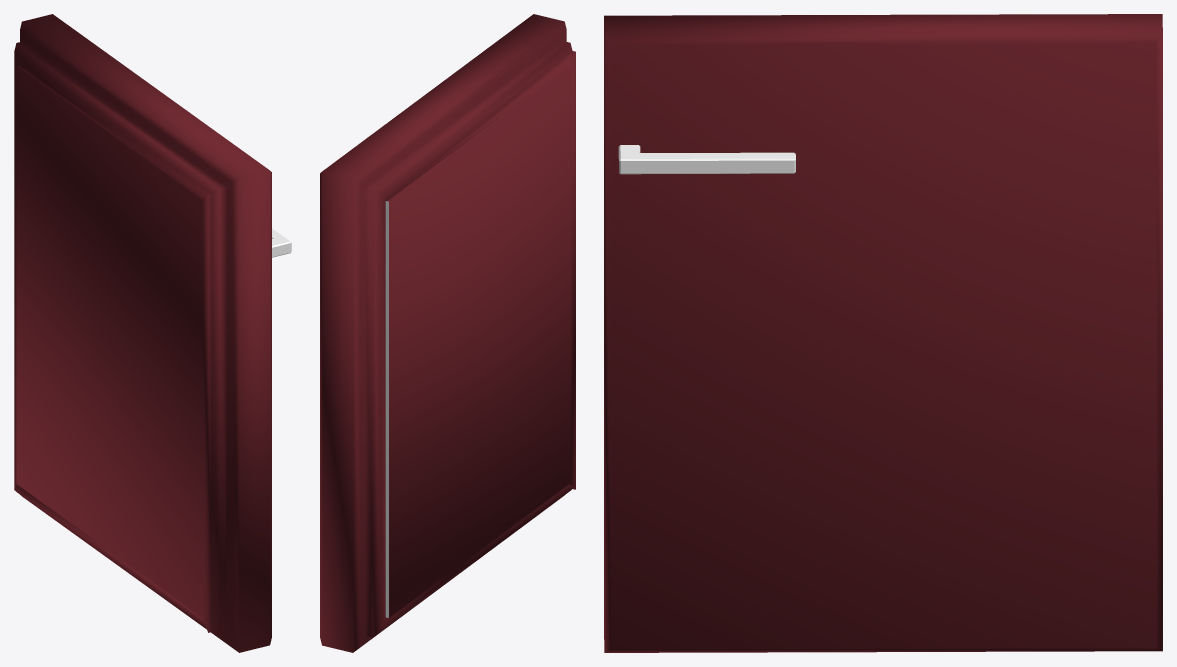
Rendered from pintu bawah.fbx.
3 views of the same model, side by side, from view 1: azimuth 30°, elevation 25°; view 2: azimuth 150°, elevation 25°; view 3: azimuth 270°, elevation 25° (orthographic). The views are drawn at different scales.
Parts seen in each view (by area): view 1: Cube.004; view 2: Cube.004; view 3: Cube.004.
Boxes of the visible parts, x1,y1,x2,y2 form: Cube.004: (14, 14, 291, 652); Cube.004: (320, 14, 575, 652); Cube.004: (604, 14, 1162, 652).
Size of the model in its own units: 57.63 by 318 by 261.
